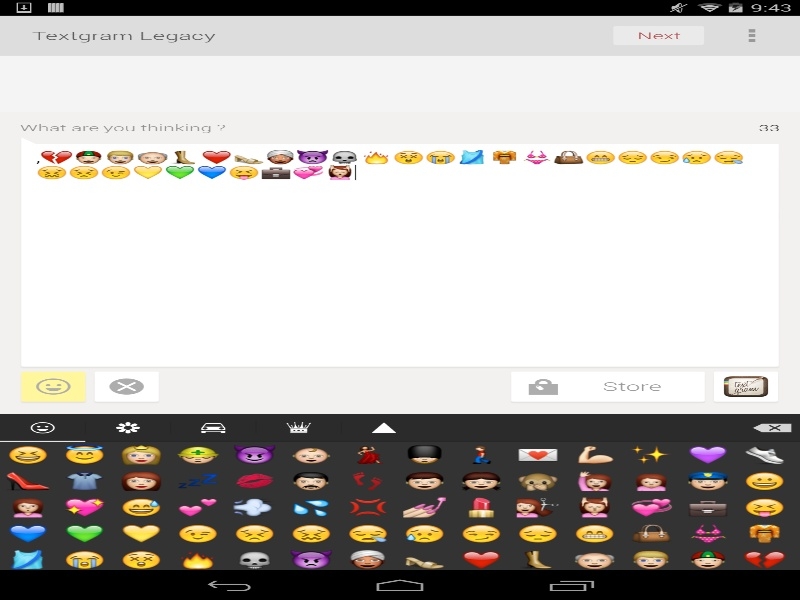Button: (509, 371, 706, 403), (170, 413, 256, 441), (0, 413, 85, 441), (85, 413, 170, 441), (256, 413, 341, 441), (341, 413, 426, 441), (93, 371, 160, 403), (712, 371, 779, 403), (20, 371, 86, 403), (612, 25, 705, 45), (744, 413, 800, 441)
Input: (20, 137, 780, 368)
